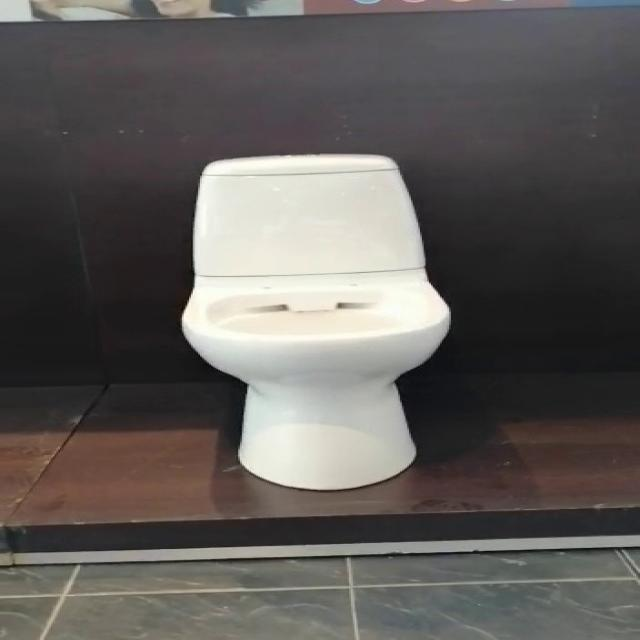toilet: (178, 152, 451, 491)
